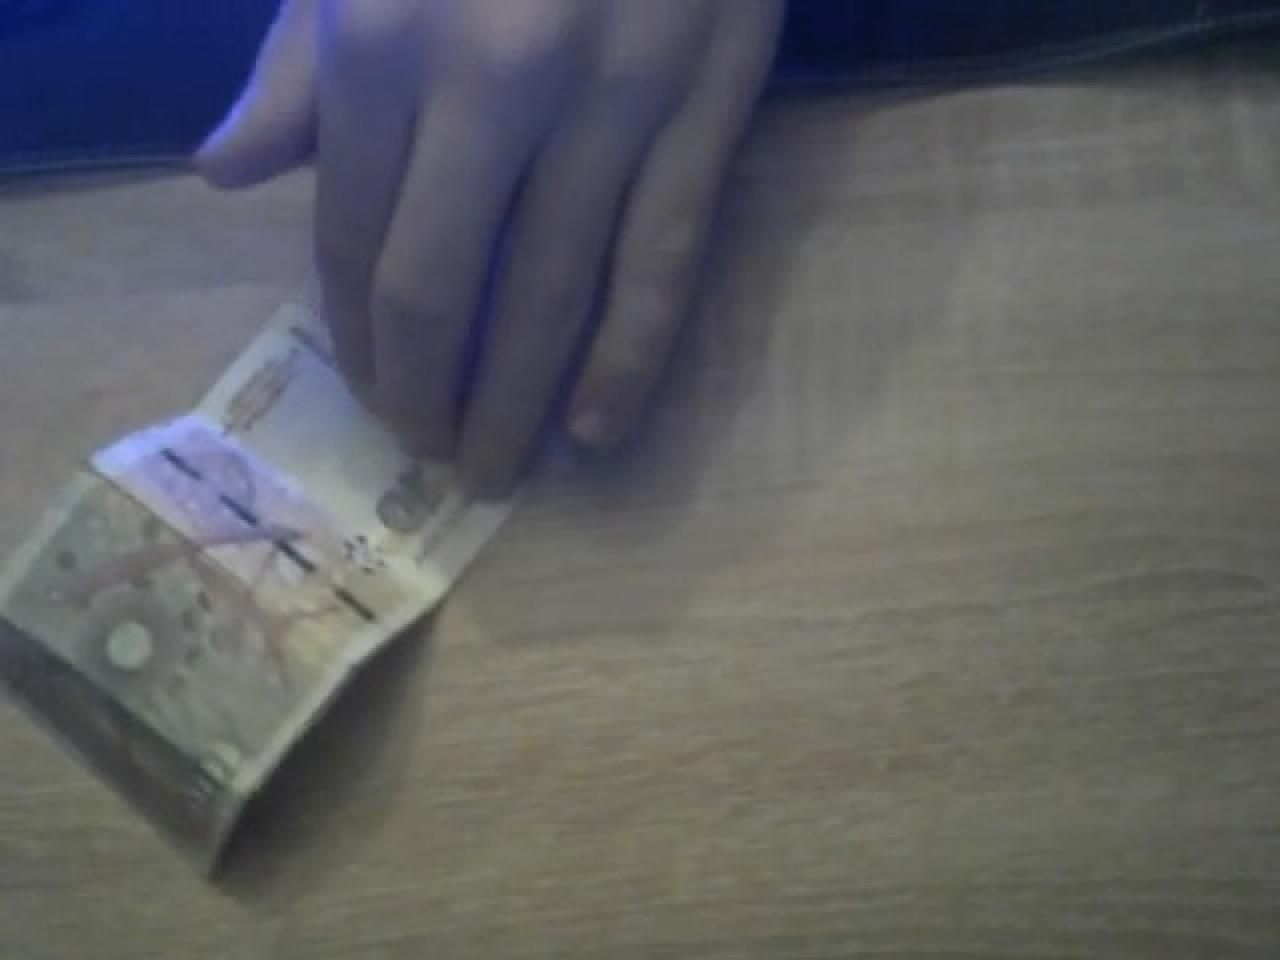10leva: (0, 304, 515, 890)
